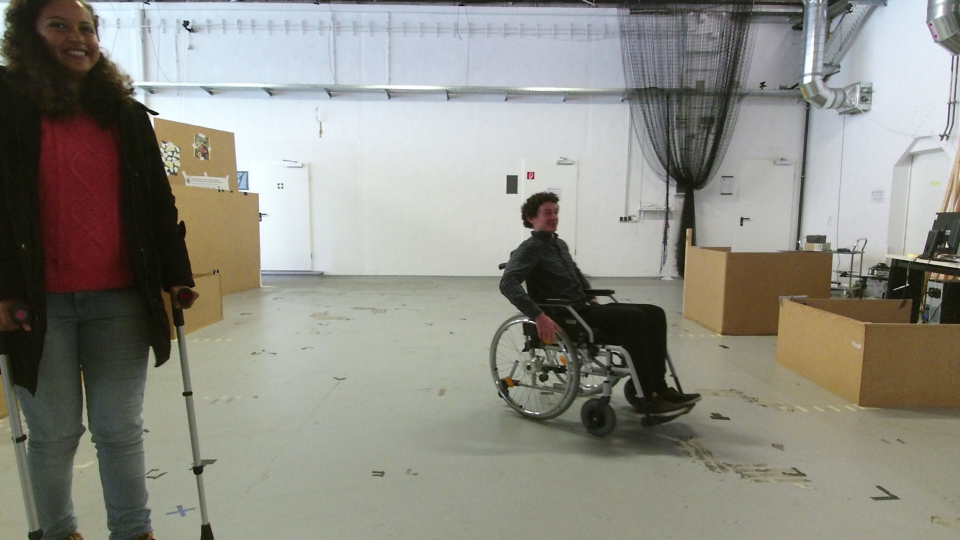crutches: (1, 1, 223, 540)
wheelchair: (474, 186, 696, 439)
